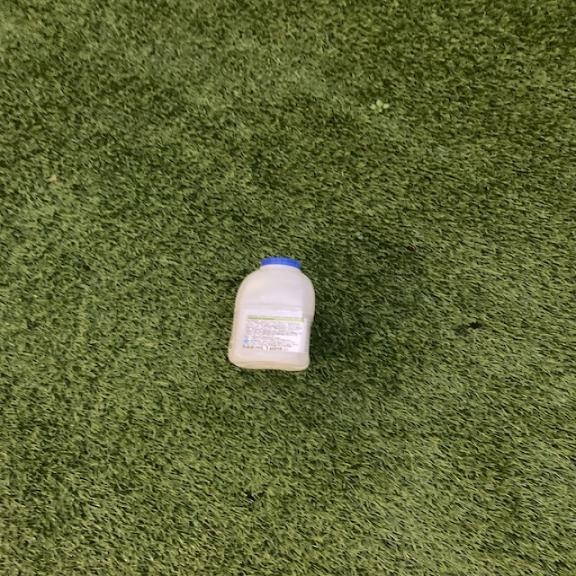Plastik: (223, 255, 324, 378)
